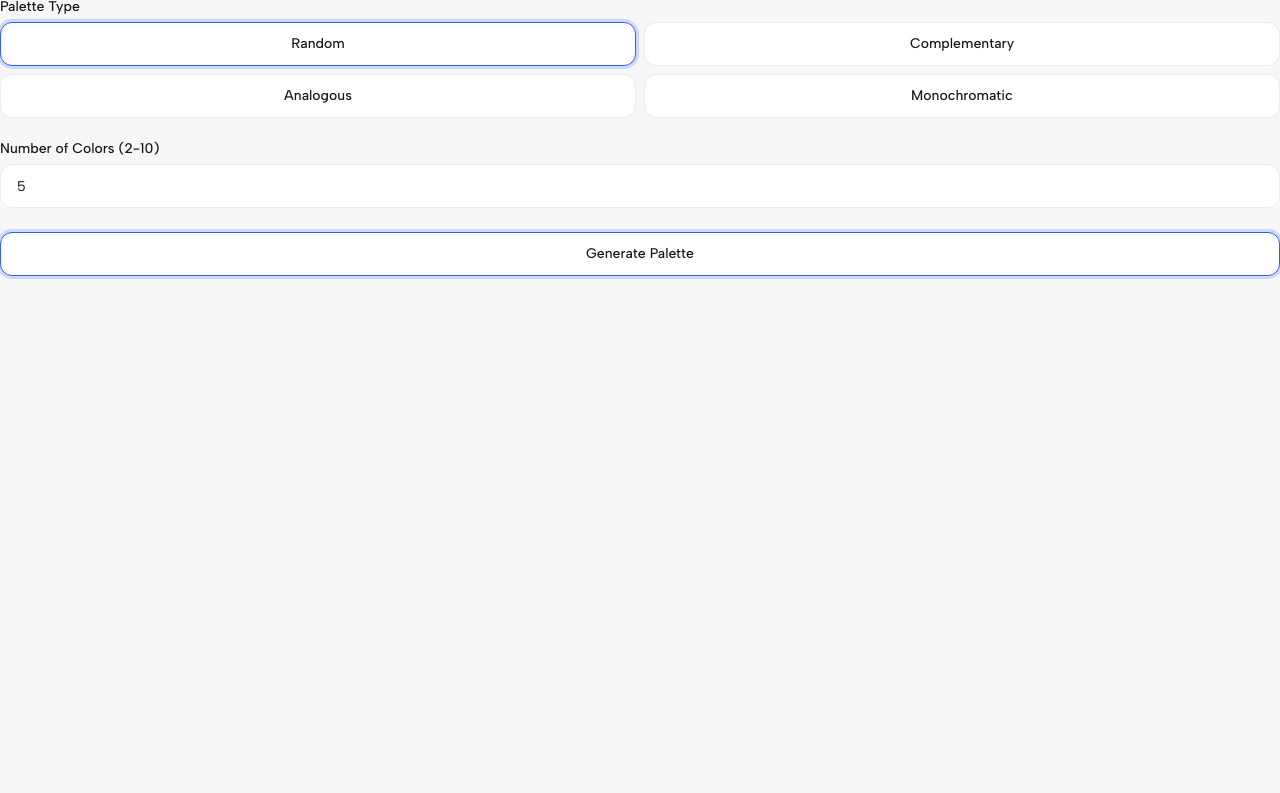
it: ColorPaletteGeneratorTool › generates analogous palette
Click the button "Analogous" at (318, 96), box [0, 74, 636, 118]
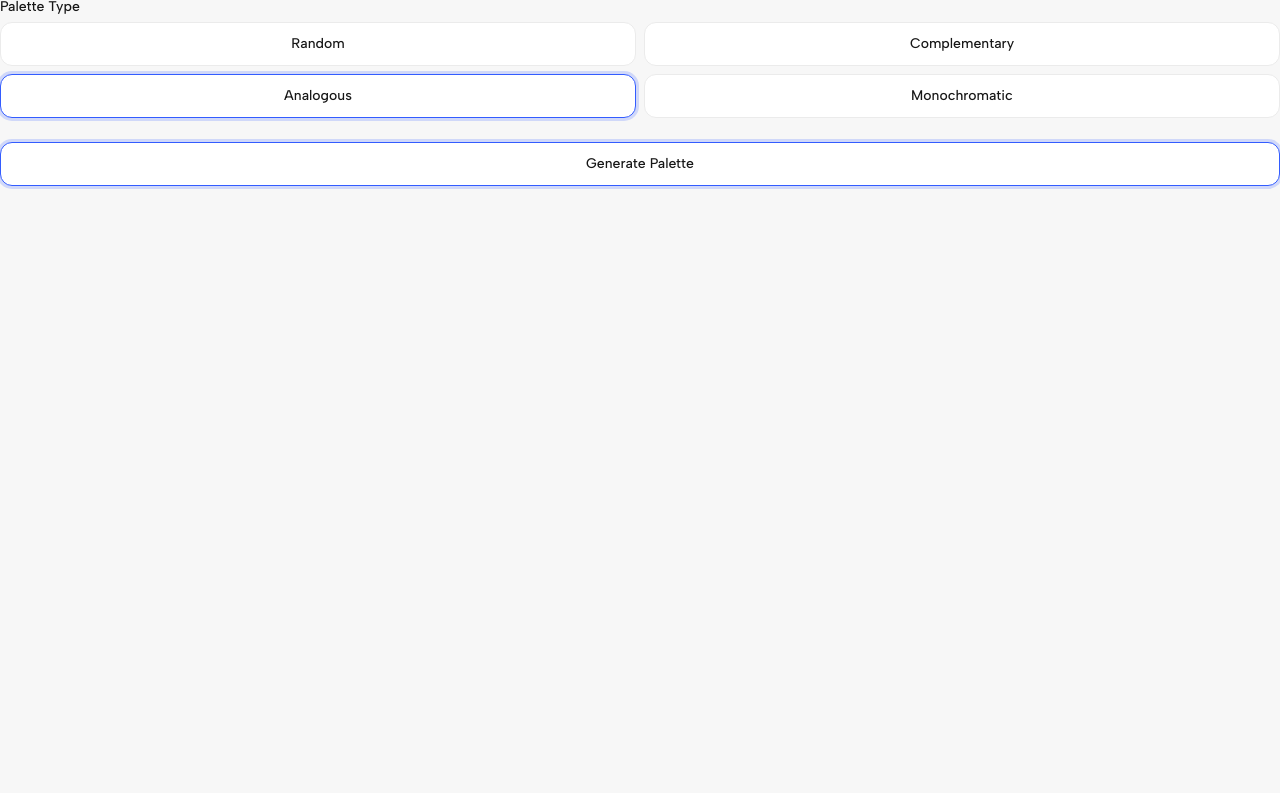
Click the button "Generate Palette" at (640, 164), box [0, 142, 1279, 186]
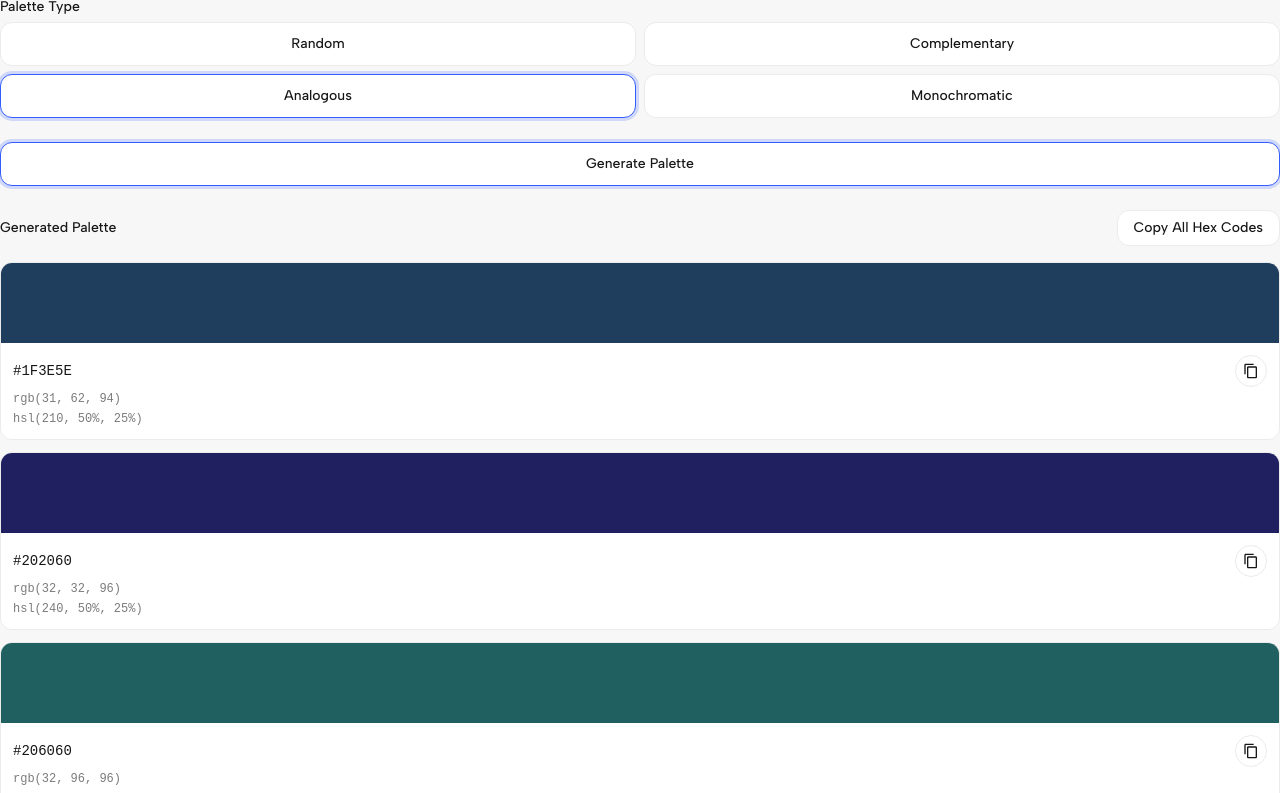
Result: the text "Generated Palette" is shown at [0, 221, 116, 235]
